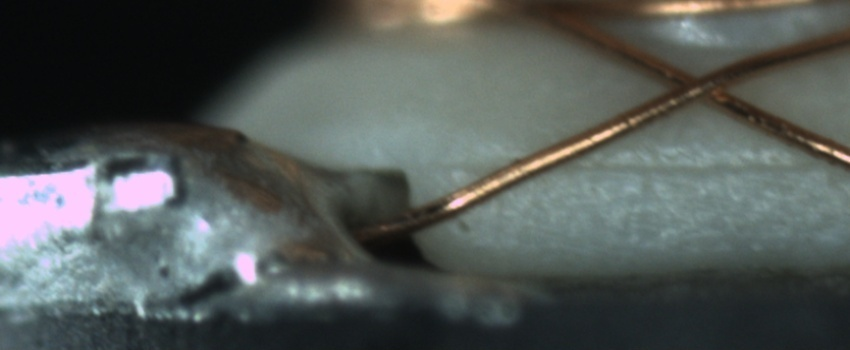CL: (652, 57, 746, 113)
DL: (460, 133, 849, 199)
